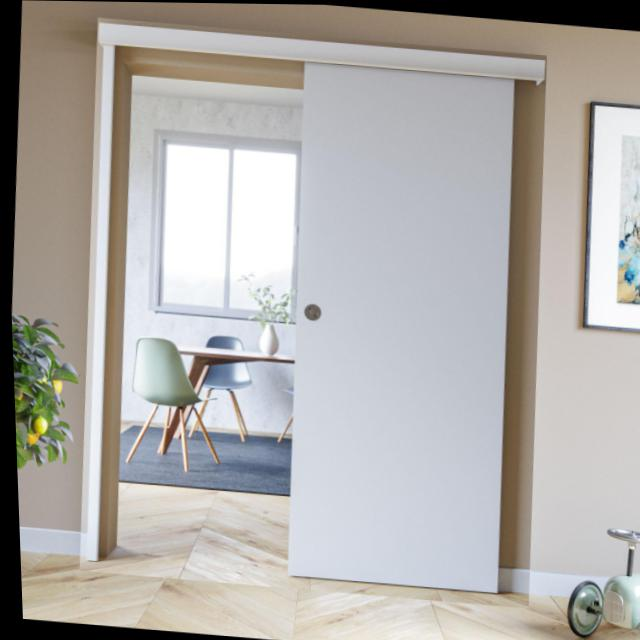open: (58, 16, 563, 608)
